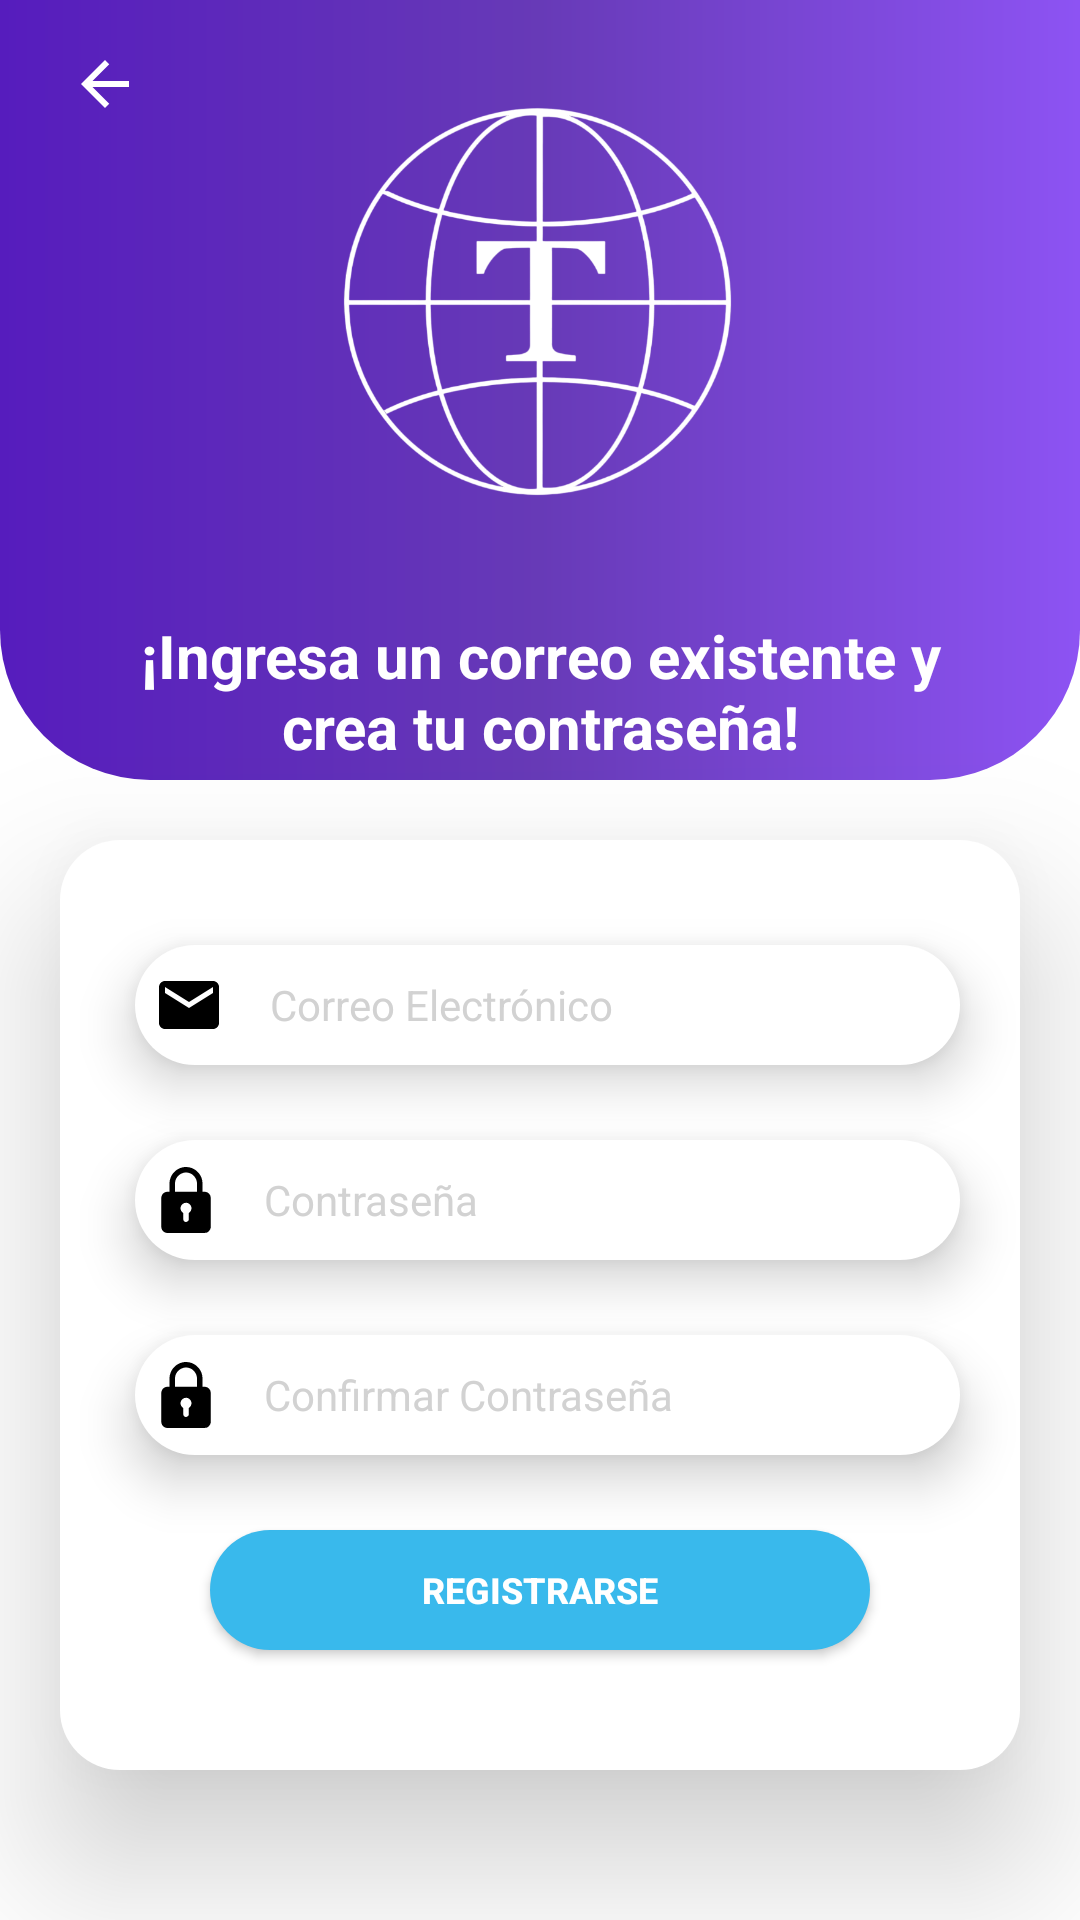

Named icons in this screenshot (1080×1920) and their bounding boxes, (x1, y1, x2, y2):
Back: (81, 60, 129, 108)
